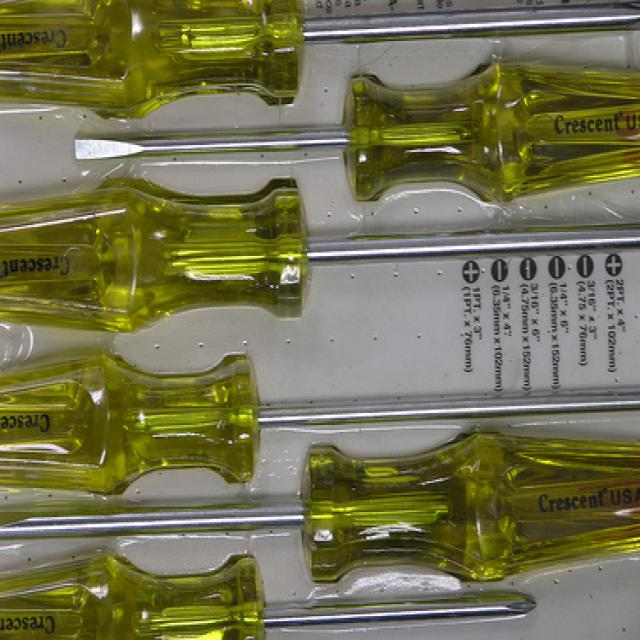screw_driver: (0, 177, 640, 332), (0, 432, 640, 586), (72, 60, 640, 206)
